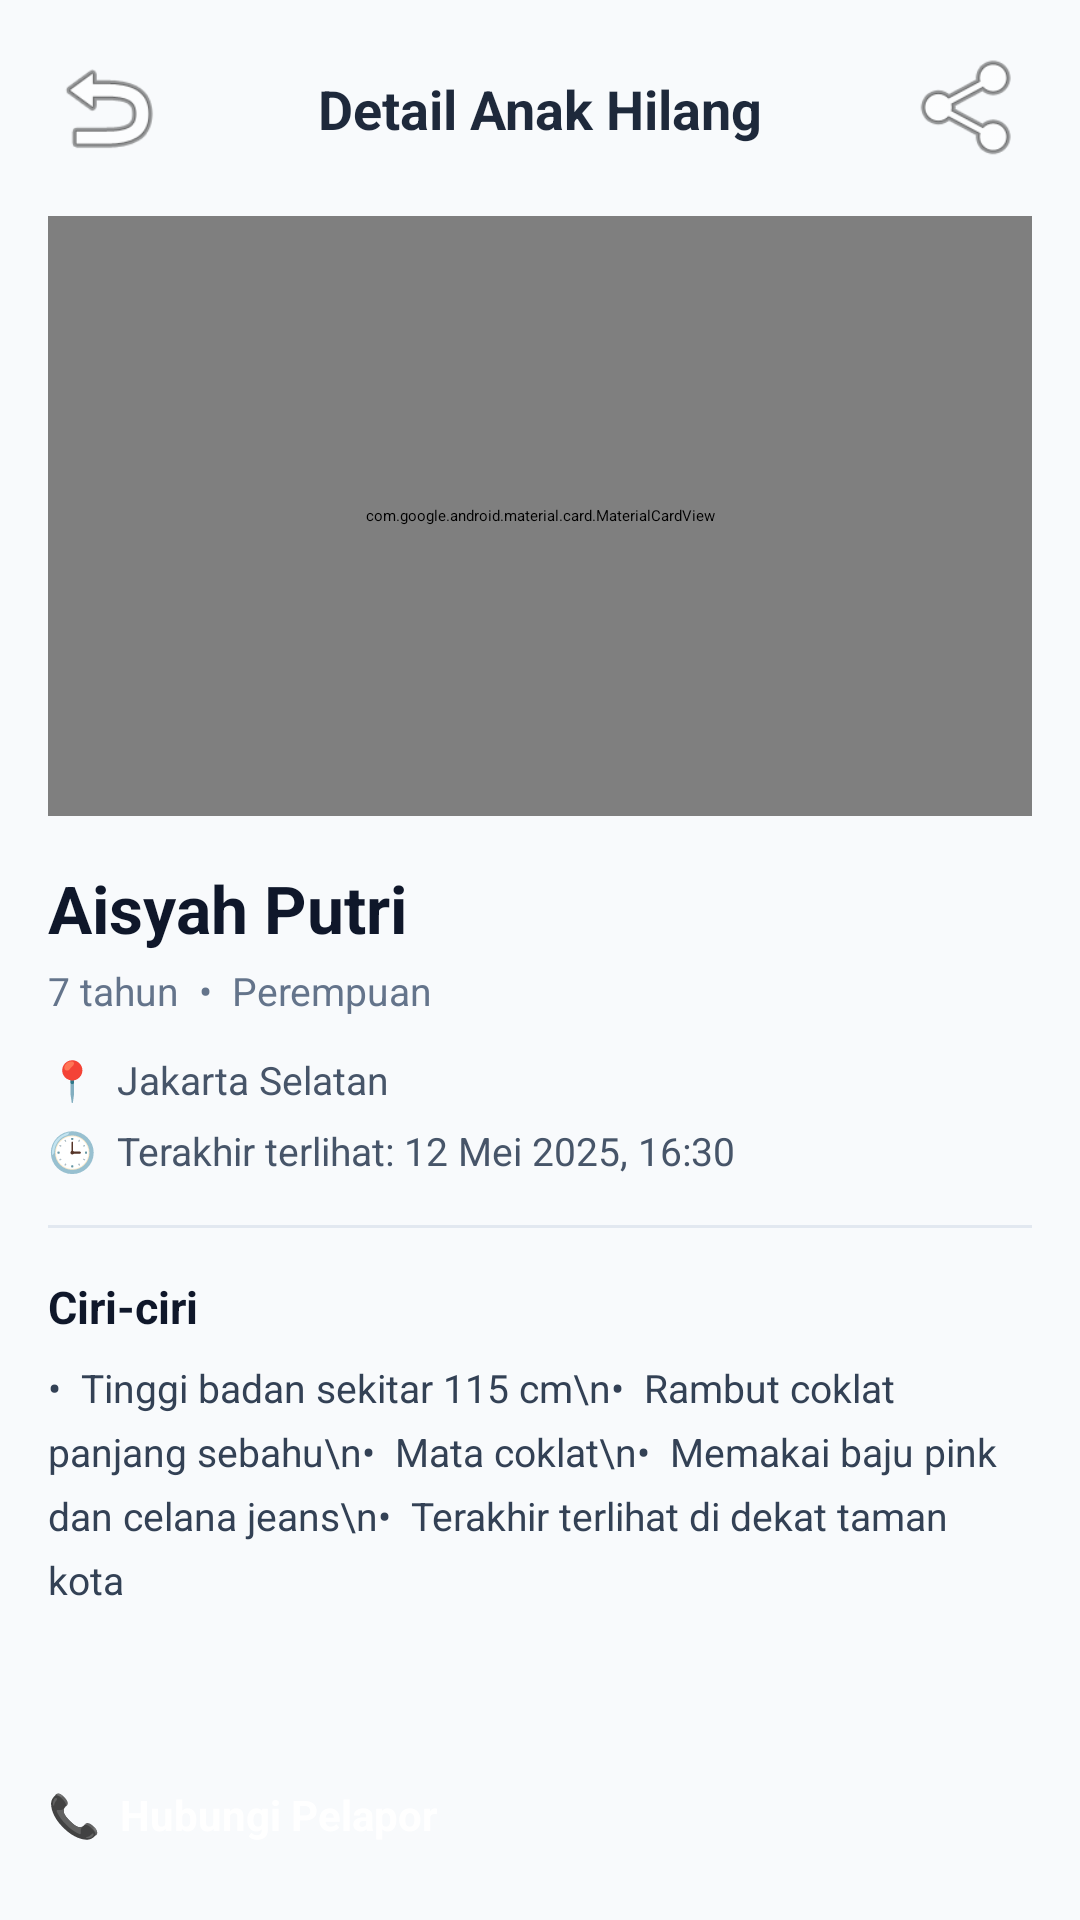

Point at icon controls on the screen. Image size 1080x1920, points as point (x, y).
revert: point (109, 109)
share: point (966, 107)
